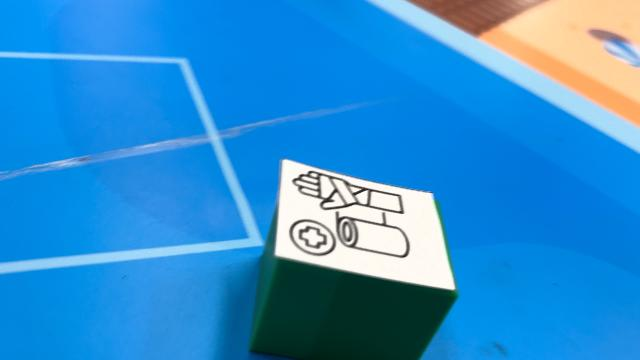bandage: (249, 158, 459, 358)
